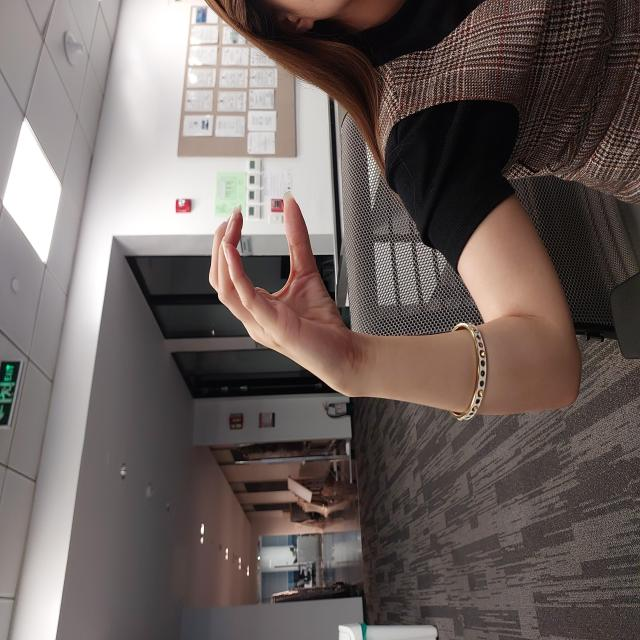C: (239, 206, 453, 362)
